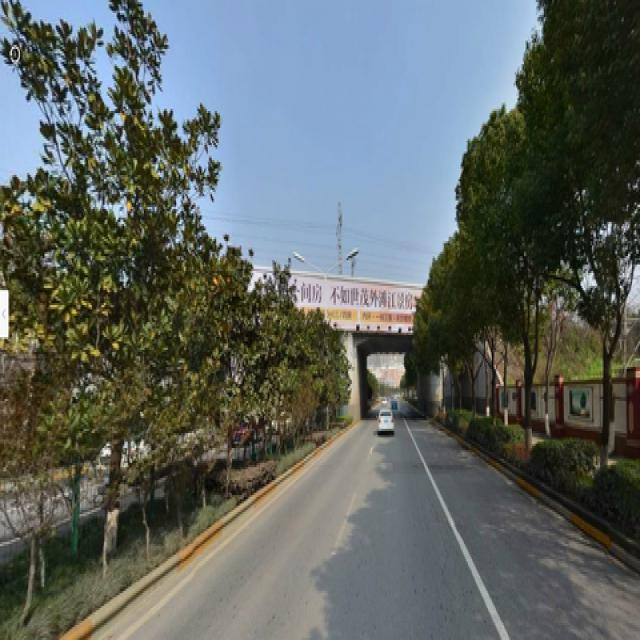magn: (9, 9, 223, 544)
